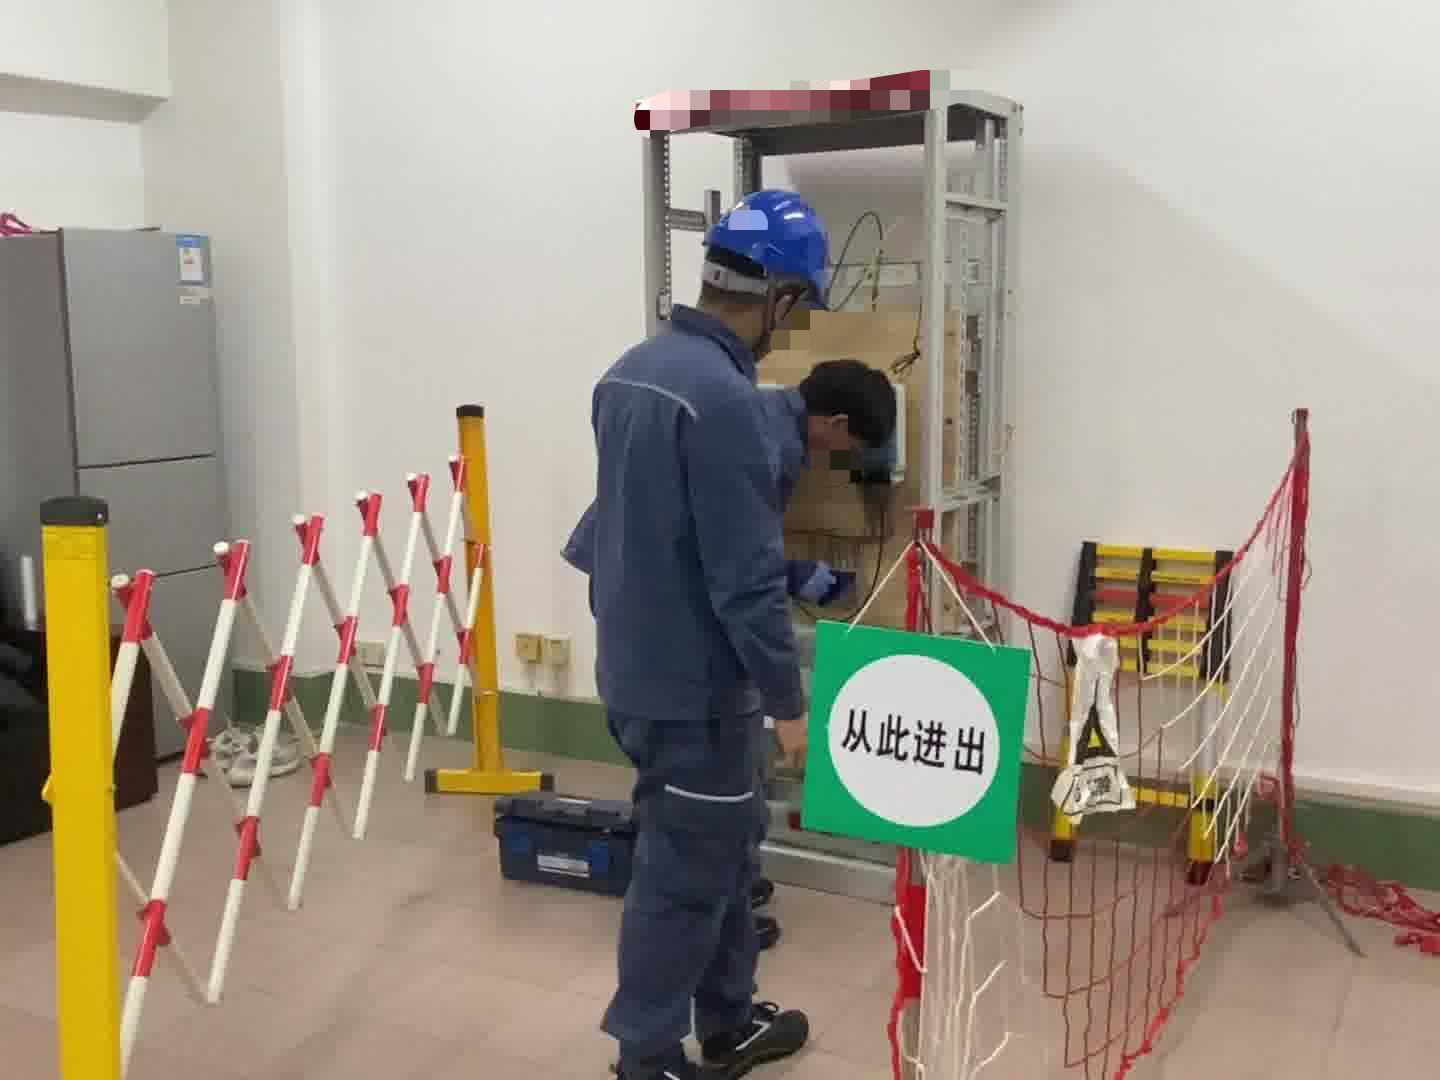halt: (700, 189, 837, 347)
inear: (756, 280, 808, 351)
noear: (815, 410, 858, 452)
unhalt: (797, 362, 903, 476)
